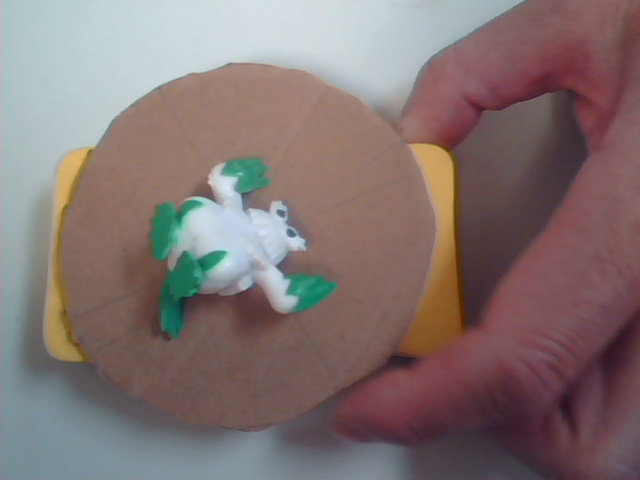abomasnow: (136, 147, 368, 373)
